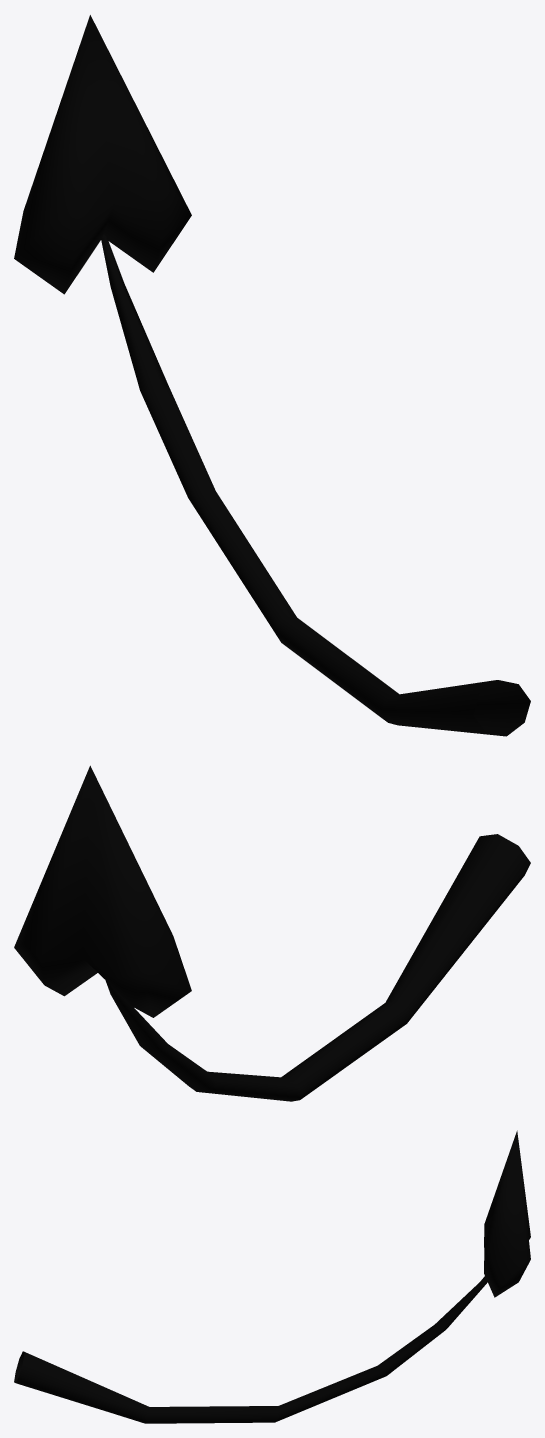
The model's file is LittleGhost_DevilTail.fbx.
3 renders of one model, top to bottom at view 1: azimuth 30°, elevation 25°; view 2: azimuth 150°, elevation 25°; view 3: azimuth 270°, elevation 25°, orthographic. The views are drawn at different scales.
Visible parts, largest first — view 1: Kid_ghost_v1:Devil_Tail; view 2: Kid_ghost_v1:Devil_Tail; view 3: Kid_ghost_v1:Devil_Tail.
Part boxes in pixels (x1,y1,x2,y2): Kid_ghost_v1:Devil_Tail: [14, 15, 530, 736]; Kid_ghost_v1:Devil_Tail: [14, 765, 530, 1101]; Kid_ghost_v1:Devil_Tail: [14, 1130, 530, 1423].
Bounding box in the file's own units: 0.2793 × 0.728 × 1.16.
